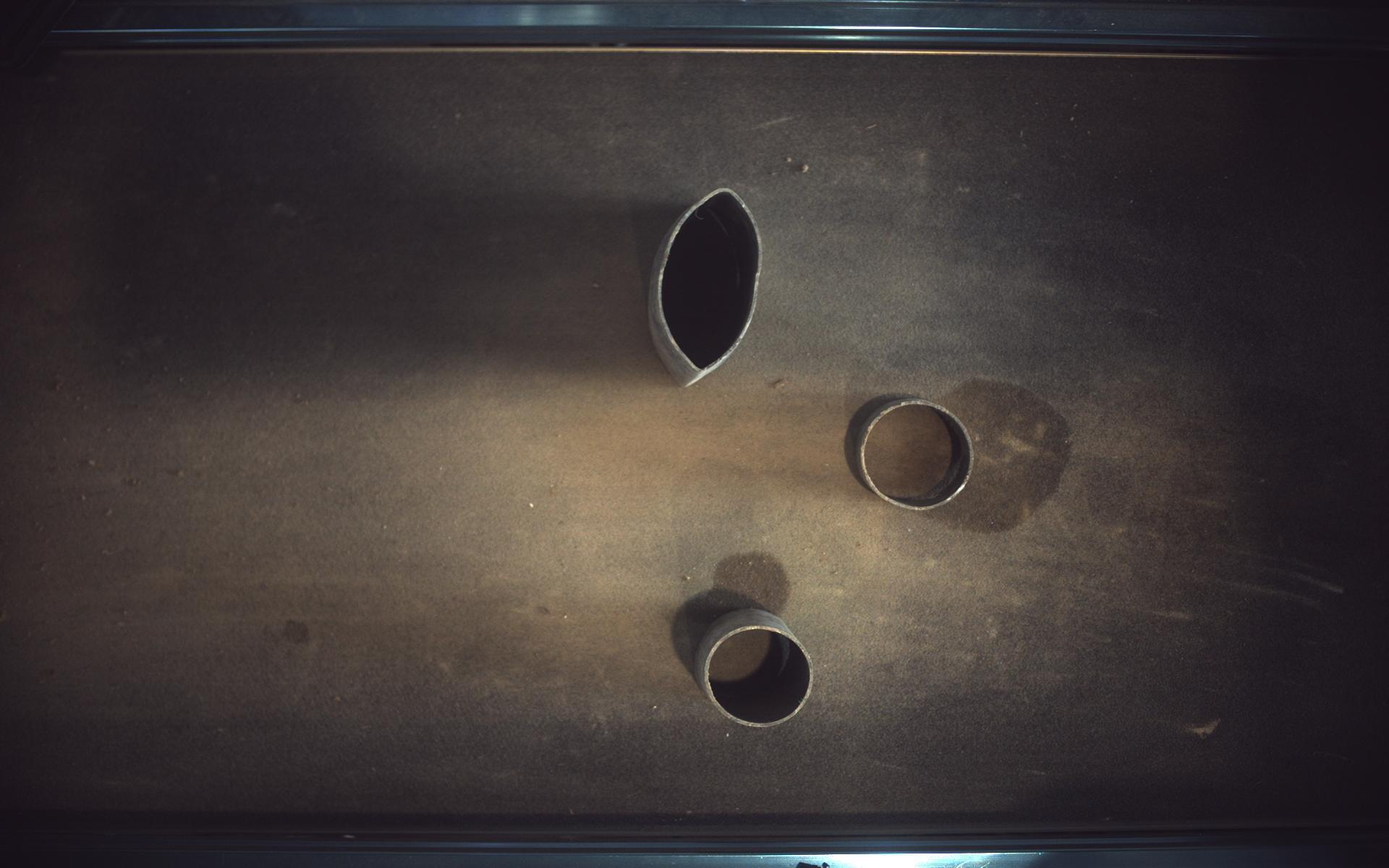pipes: (650, 187, 763, 386), (847, 395, 975, 510), (697, 610, 813, 728)
